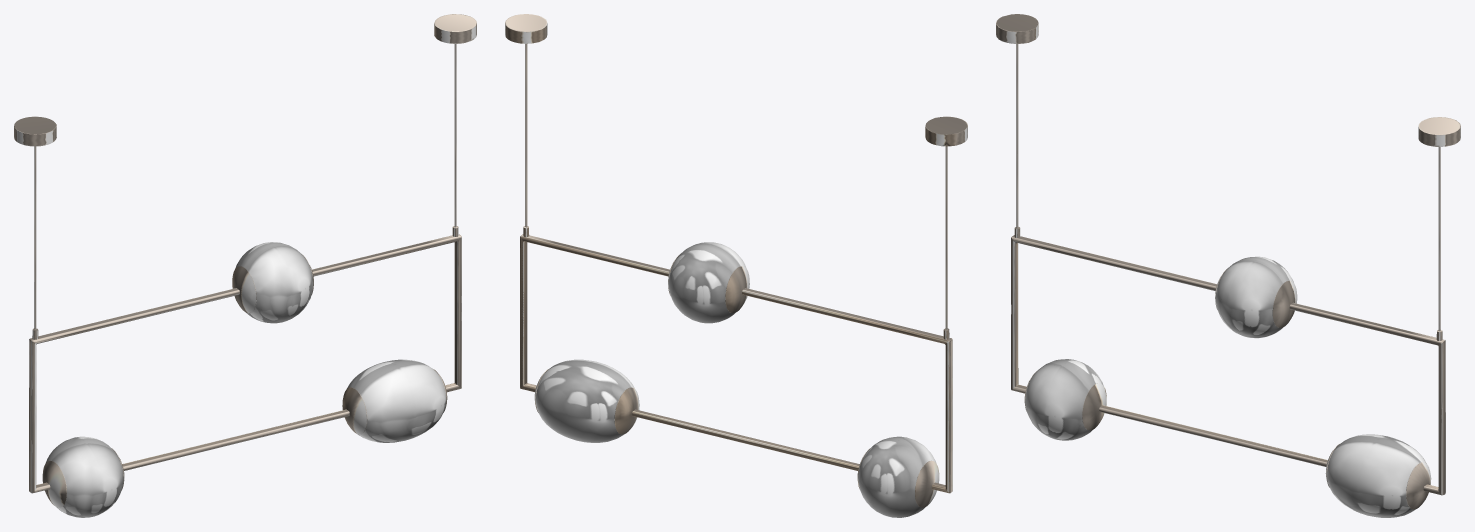
File: raw_model.obj
3 views of the same model, side by side, from view 1: azimuth 30°, elevation 25°; view 2: azimuth 150°, elevation 25°; view 3: azimuth 330°, elevation 25° (orthographic).
Parts seen in each view (by area): view 1: solid_002, solid_001; view 2: solid_002, solid_001; view 3: solid_002, solid_001.
Boxes of the visible parts, <box> form: solid_002: <box>46,242,446,517</box>; solid_001: <box>14,14,476,507</box>; solid_002: <box>535,242,936,517</box>; solid_001: <box>505,14,967,507</box>; solid_002: <box>1025,256,1426,517</box>; solid_001: <box>996,14,1460,509</box>.
Bounding box in the file's own units: 0.9724 × 0.8138 × 0.1501.
1 material, 1 textured.
